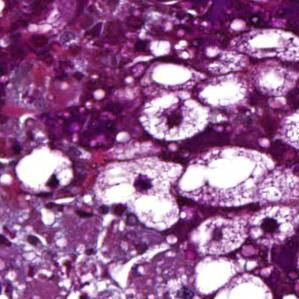ballooning: (133, 87, 212, 144), (12, 143, 80, 198)
